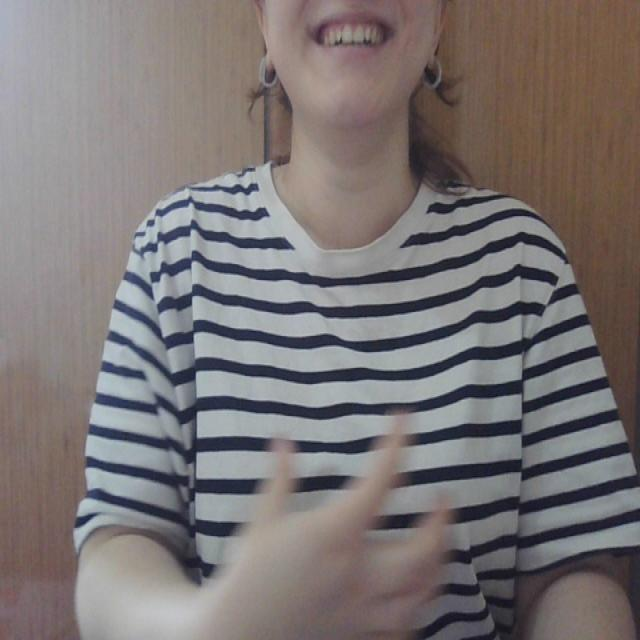Anne: (179, 387, 525, 640)
